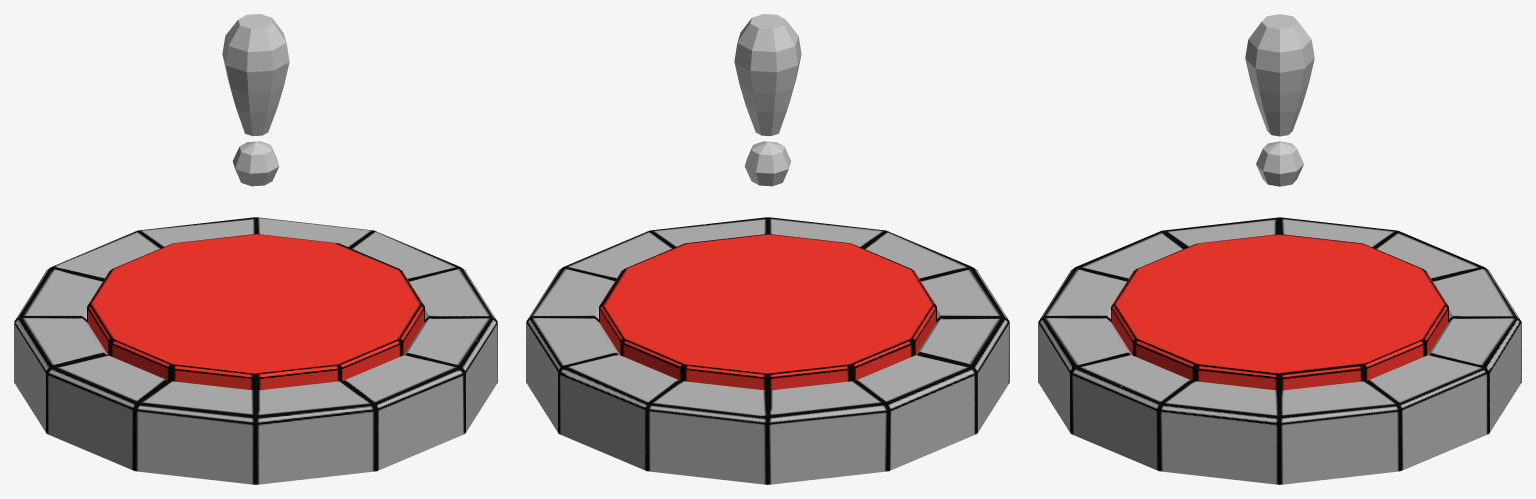
Rendered from AM_Checkpoint 1.fbx.
3 renders of one model, left to right at view 1: azimuth 30°, elevation 25°; view 2: azimuth 150°, elevation 25°; view 3: azimuth 270°, elevation 25°, orthographic.
Parts seen in each view (by area): view 1: Checkpoint_Hülle, Checkpoint_Knopf, Checkpoint_Ausrufezeichen; view 2: Checkpoint_Hülle, Checkpoint_Knopf, Checkpoint_Ausrufezeichen; view 3: Checkpoint_Hülle, Checkpoint_Knopf, Checkpoint_Ausrufezeichen.
Part boxes in pixels (x1,y1,x2,y2): Checkpoint_Hülle: (14, 217, 497, 484); Checkpoint_Knopf: (87, 234, 424, 390); Checkpoint_Ausrufezeichen: (222, 14, 289, 186); Checkpoint_Hülle: (526, 217, 1009, 484); Checkpoint_Knopf: (599, 234, 936, 390); Checkpoint_Ausrufezeichen: (734, 14, 801, 186); Checkpoint_Hülle: (1038, 217, 1521, 484); Checkpoint_Knopf: (1111, 234, 1448, 390); Checkpoint_Ausrufezeichen: (1245, 14, 1314, 186).
Bounding box in the file's own units: 200 × 165 × 200.
